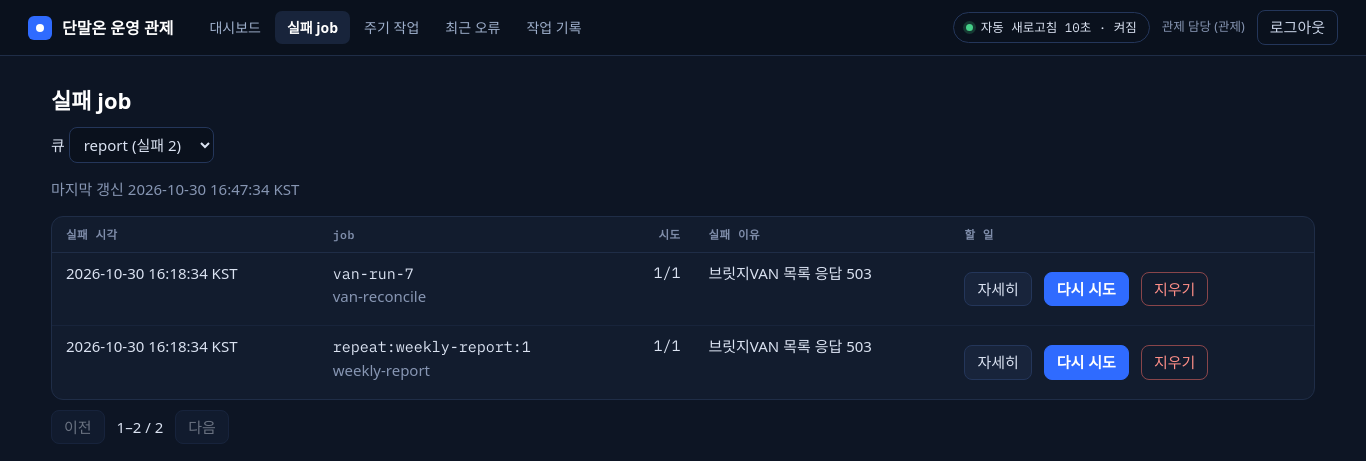
실패 job (보강 6, decisions/0072) › 다시 시도: 확인창을 취소하면 부르지 않고, 확인하면 POST 뒤 알림과 목록·큐 요약·작업 기록을 다시 읽는다(job id는 주소에 맞게 인코딩)
Click the button "다시 시도" in the row of "repeat:weekly-report:1": (1086,363) [1044, 345, 1129, 380]
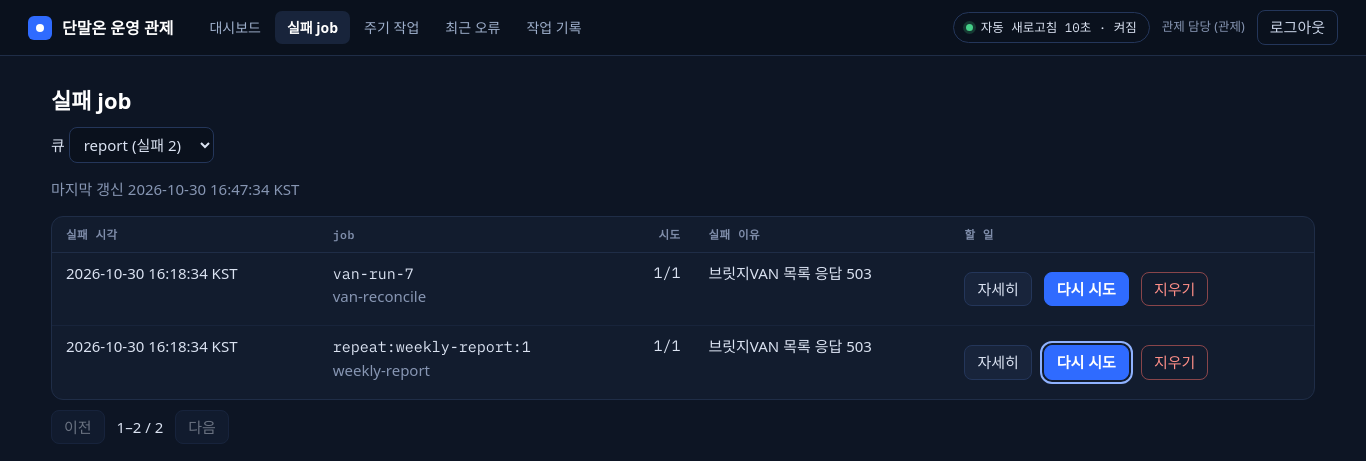
Click the button "다시 시도" in the row of "repeat:weekly-report:1": (1086,363) [1044, 345, 1129, 380]
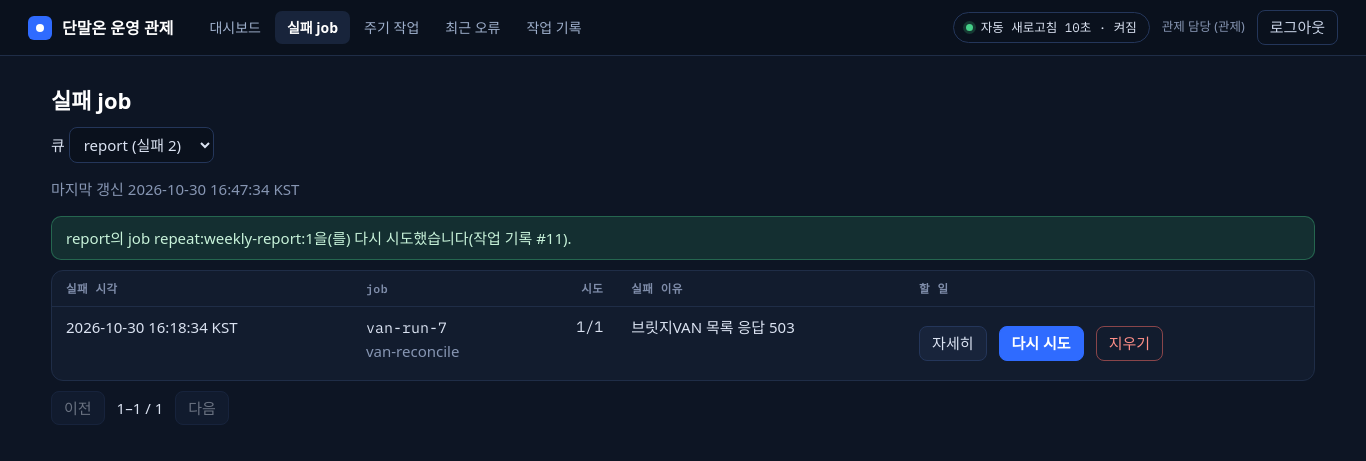
Expected: the text "report의 job repeat:weekly-report:1을(를) 다시 시도했습니다(작업 기록 #11)." is shown, [51, 216, 1315, 260]
